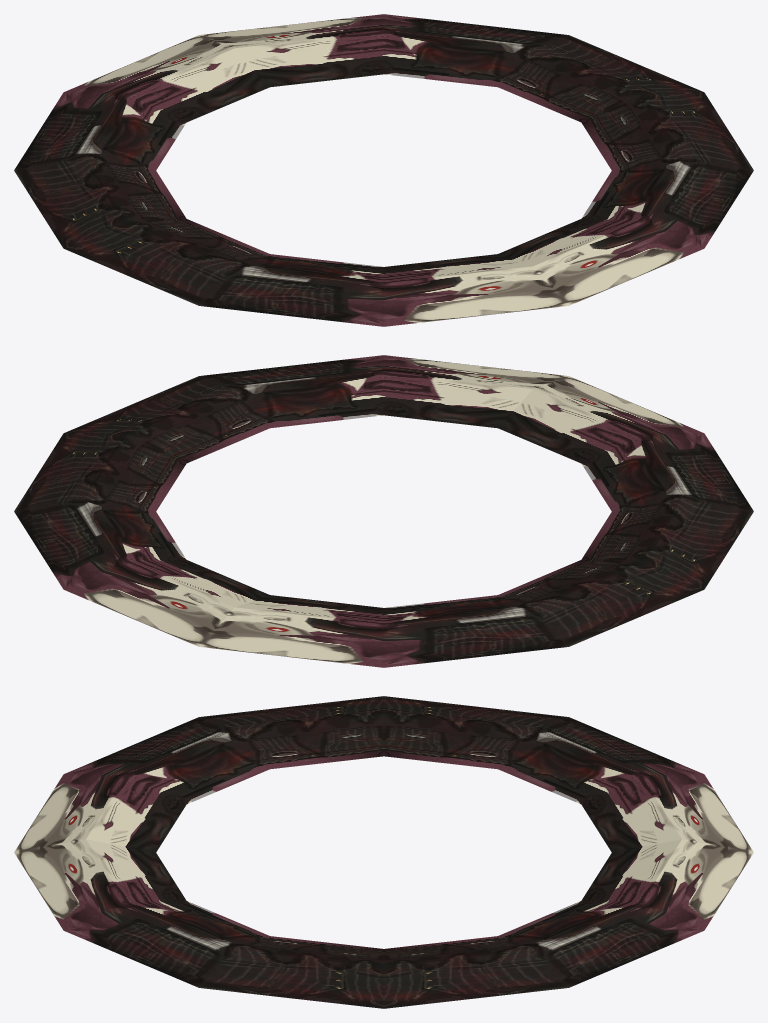
File: Monkey_halo.obj
The picture shows the model from 3 angles, top to bottom: view 1: azimuth 30°, elevation 25°; view 2: azimuth 150°, elevation 25°; view 3: azimuth 270°, elevation 25°; orthographic projection.
Parts seen in each view (by area): view 1: Monkey_halo_tri; view 2: Monkey_halo_tri; view 3: Monkey_halo_tri.
Boxes of the visible parts, x1,y1,x2,y2 form: Monkey_halo_tri: [14, 14, 753, 326]; Monkey_halo_tri: [14, 355, 753, 667]; Monkey_halo_tri: [14, 696, 753, 1008].
Bounding box in the file's own units: 0.2129 × 0.00836 × 0.2129.
Materials: 1 (1 with a texture image).
